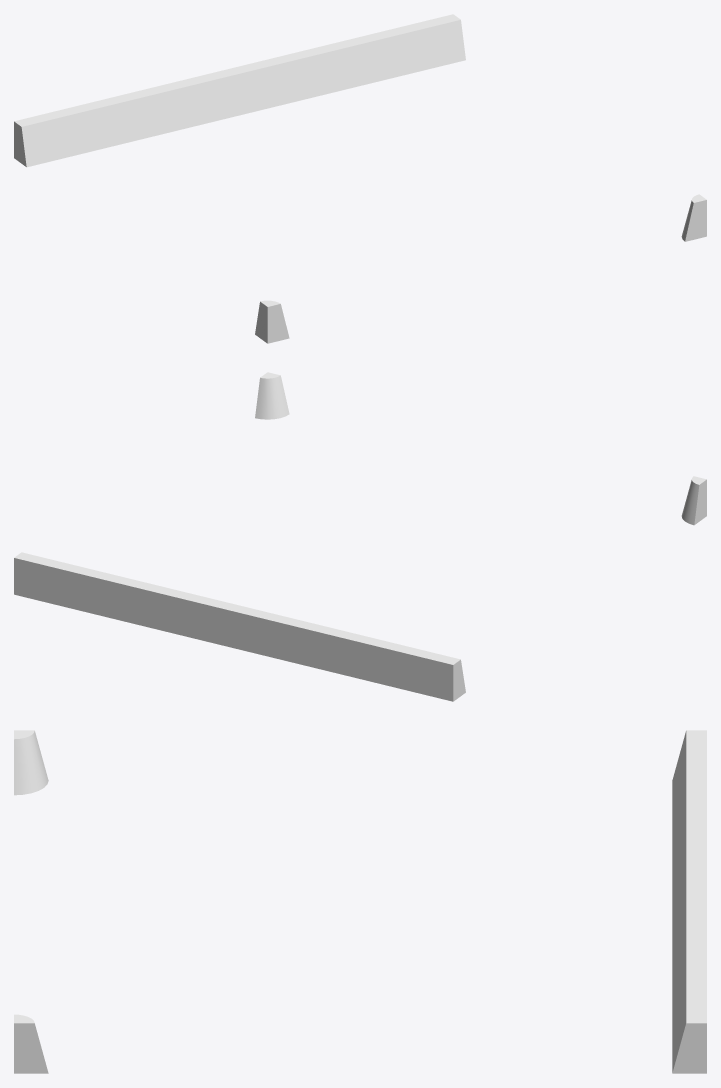
File: road-intersection-barrier.glb
3 renders of one model, top to bottom at view 1: azimuth 30°, elevation 25°; view 2: azimuth 150°, elevation 25°; view 3: azimuth 270°, elevation 25°, orthographic. The views are drawn at different scales.
Parts seen in each view (by area): view 1: road-intersection-barrier; view 2: road-intersection-barrier; view 3: road-intersection-barrier.
Part boxes in pixels (x1=…): road-intersection-barrier: x1=14, y1=14, x2=706, y2=343; road-intersection-barrier: x1=14, y1=372, x2=706, y2=701; road-intersection-barrier: x1=14, y1=730, x2=706, y2=1073.
Size of the model in its own units: 1 by 0.08 by 1.
Materials: 1 (1 with a texture image).
